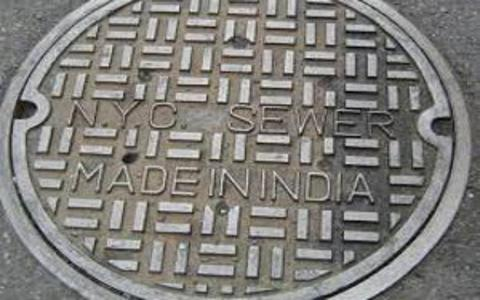proper manhole: (3, 2, 480, 299)
